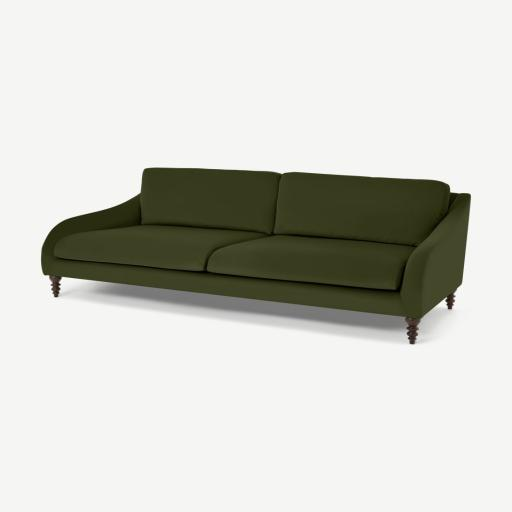back_cushion: (141, 168, 448, 245)
base: (45, 259, 411, 316)
left_arm: (400, 194, 470, 317)
legs: (406, 318, 420, 344), (50, 276, 61, 297), (446, 289, 456, 310)
right_arm: (41, 194, 140, 275)
seat_cushion: (54, 225, 414, 290)
two-seater: (0, 0, 511, 512)
